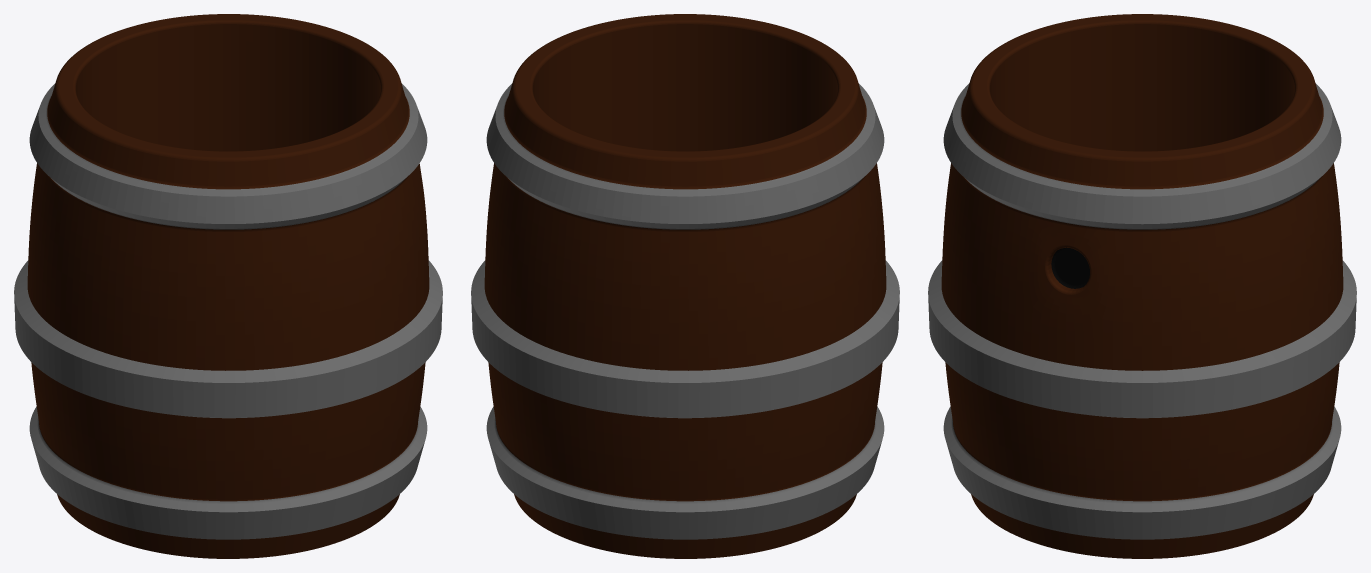
Rendered from TNT_Barrel_Master.fbx.
The picture shows the model from 3 angles, left to right: view 1: azimuth 30°, elevation 25°; view 2: azimuth 150°, elevation 25°; view 3: azimuth 270°, elevation 25°; orthographic projection.
Parts seen in each view (by area): view 1: Barrel; view 2: Barrel; view 3: Barrel.
Boxes of the visible parts, <box> form: Barrel: <box>14,14,442,558</box>; Barrel: <box>471,14,899,558</box>; Barrel: <box>928,14,1356,558</box>.
Size of the model in its own units: 1264 by 1301 by 1264.
